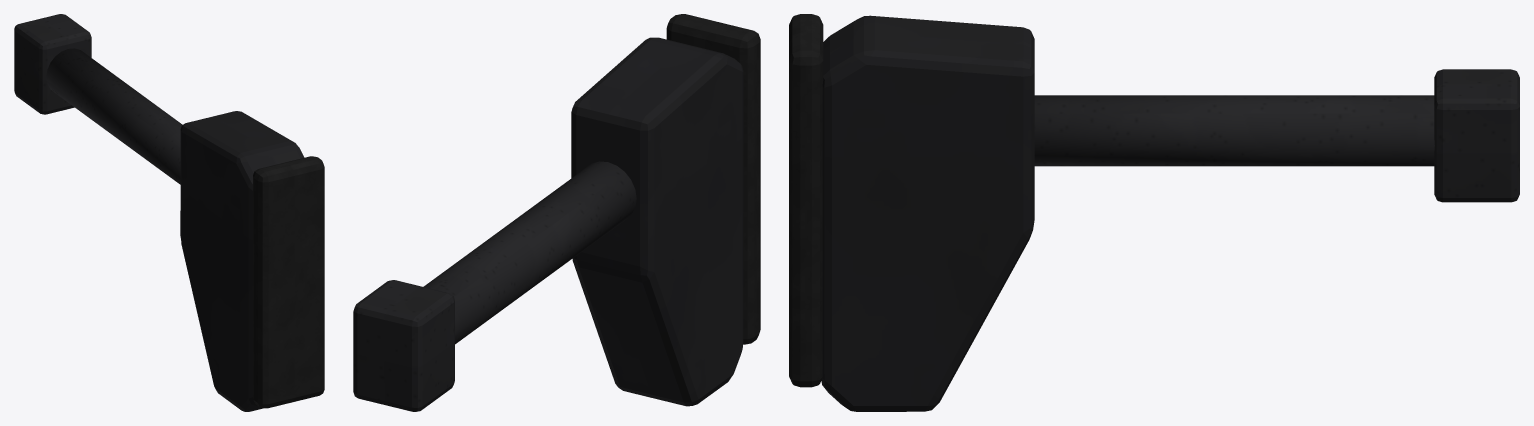
Rendered from stock_tactical.glb.
The picture shows the model from 3 angles, left to right: view 1: azimuth 30°, elevation 25°; view 2: azimuth 150°, elevation 25°; view 3: azimuth 270°, elevation 25°; orthographic projection. The views are drawn at different scales.
Parts seen in each view (by area): view 1: butt, pad, tube, hinge; view 2: butt, tube, hinge, pad; view 3: butt, tube, pad, hinge.
Part boxes in pixels (bbox=[...]): butt: bbox=[180, 111, 304, 411]; pad: bbox=[253, 156, 324, 408]; tube: bbox=[46, 48, 182, 184]; hinge: bbox=[14, 14, 91, 114]; butt: bbox=[571, 37, 743, 406]; tube: bbox=[423, 161, 636, 344]; hinge: bbox=[353, 280, 454, 411]; pad: bbox=[666, 14, 760, 344]; butt: bbox=[821, 15, 1034, 411]; tube: bbox=[1034, 95, 1434, 166]; pad: bbox=[789, 14, 823, 387]; hinge: bbox=[1434, 69, 1519, 202].
Size of the model in its own units: 0.038 by 0.14 by 0.256.
Materials: 3 (3 with a texture image).
